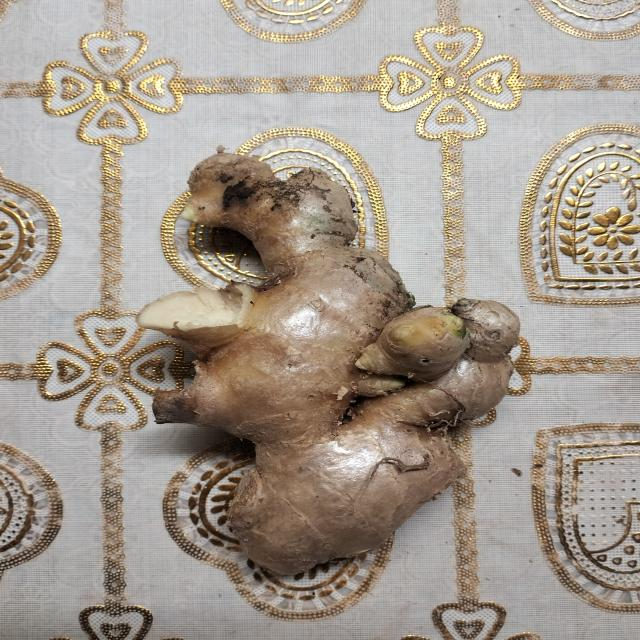ginger: (119, 145, 528, 577)
